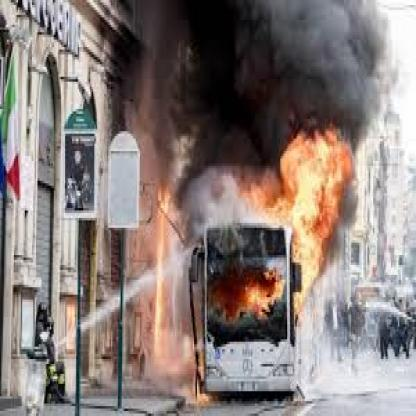fire: (181, 0, 363, 399)
